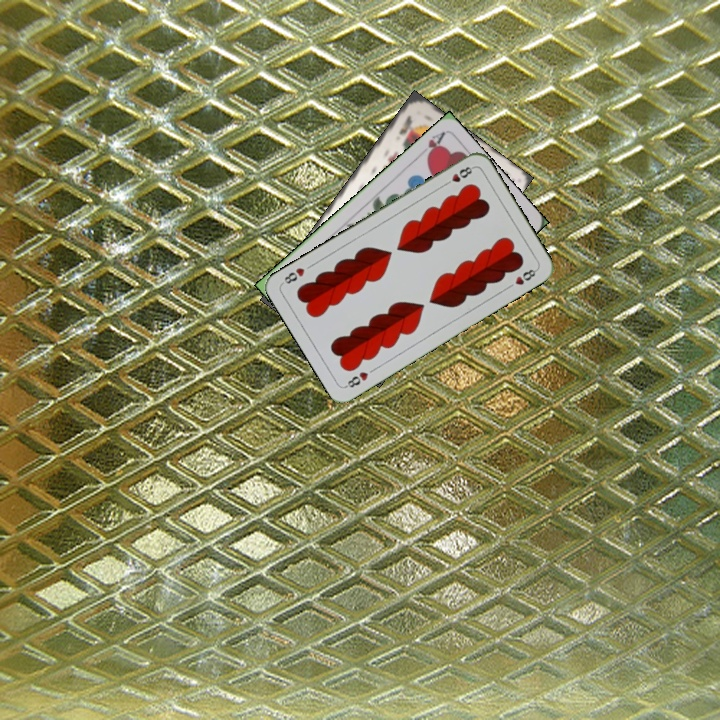H8: (439, 162, 476, 189), (341, 367, 371, 390)
HA: (422, 128, 447, 162)
SK: (395, 111, 415, 137)
